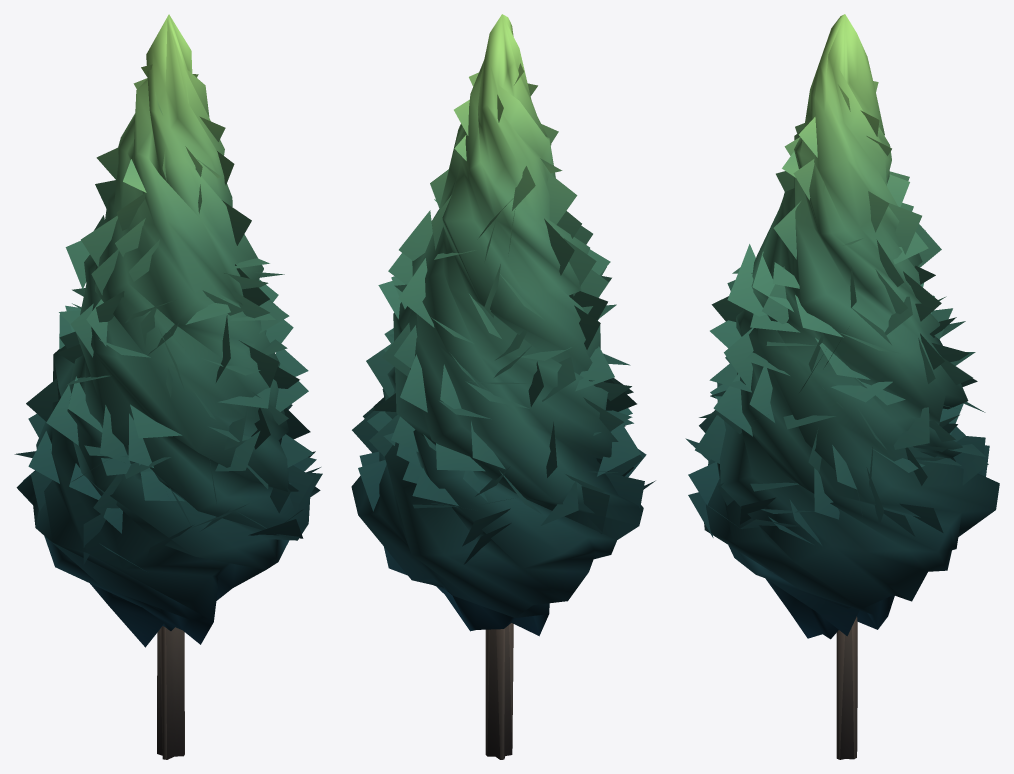
File: Pine_Tree_3C.fbx
3 renders of one model, left to right at view 1: azimuth 30°, elevation 25°; view 2: azimuth 150°, elevation 25°; view 3: azimuth 270°, elevation 25°, orthographic.
Parts seen in each view (by area): view 1: Pine_Tree_3C; view 2: Pine_Tree_3C; view 3: Pine_Tree_3C.
Boxes of the visible parts, x1,y1,x2,y2 form: Pine_Tree_3C: (14, 14, 322, 759); Pine_Tree_3C: (351, 14, 655, 759); Pine_Tree_3C: (685, 14, 999, 759).
Bounding box in the file's own units: 353 × 968 × 374.
